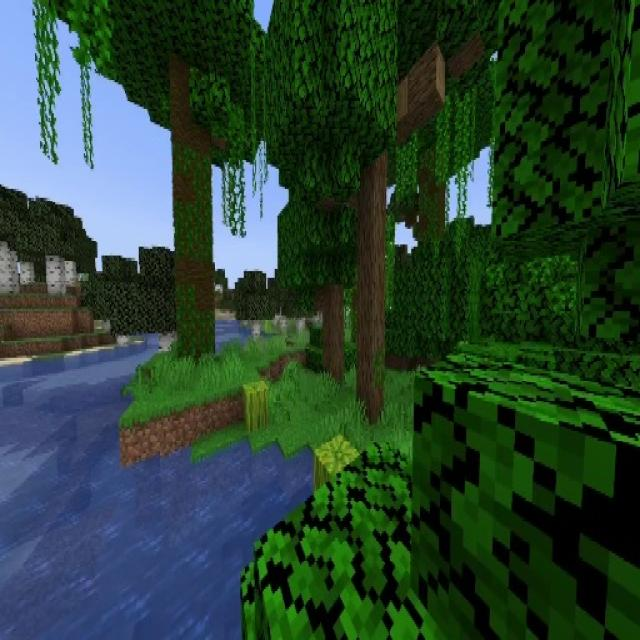birch: (20, 194, 90, 300), (128, 242, 190, 358), (0, 184, 43, 300), (236, 270, 272, 341)
birch_log: (47, 254, 65, 298), (0, 250, 17, 292), (20, 261, 34, 287), (66, 262, 76, 284), (252, 318, 260, 340)
jungle: (90, 0, 266, 378)
jungle_log: (172, 128, 215, 356)
oak: (260, 0, 444, 419), (276, 165, 378, 382)
oak_log: (358, 162, 387, 416), (322, 290, 346, 379)
